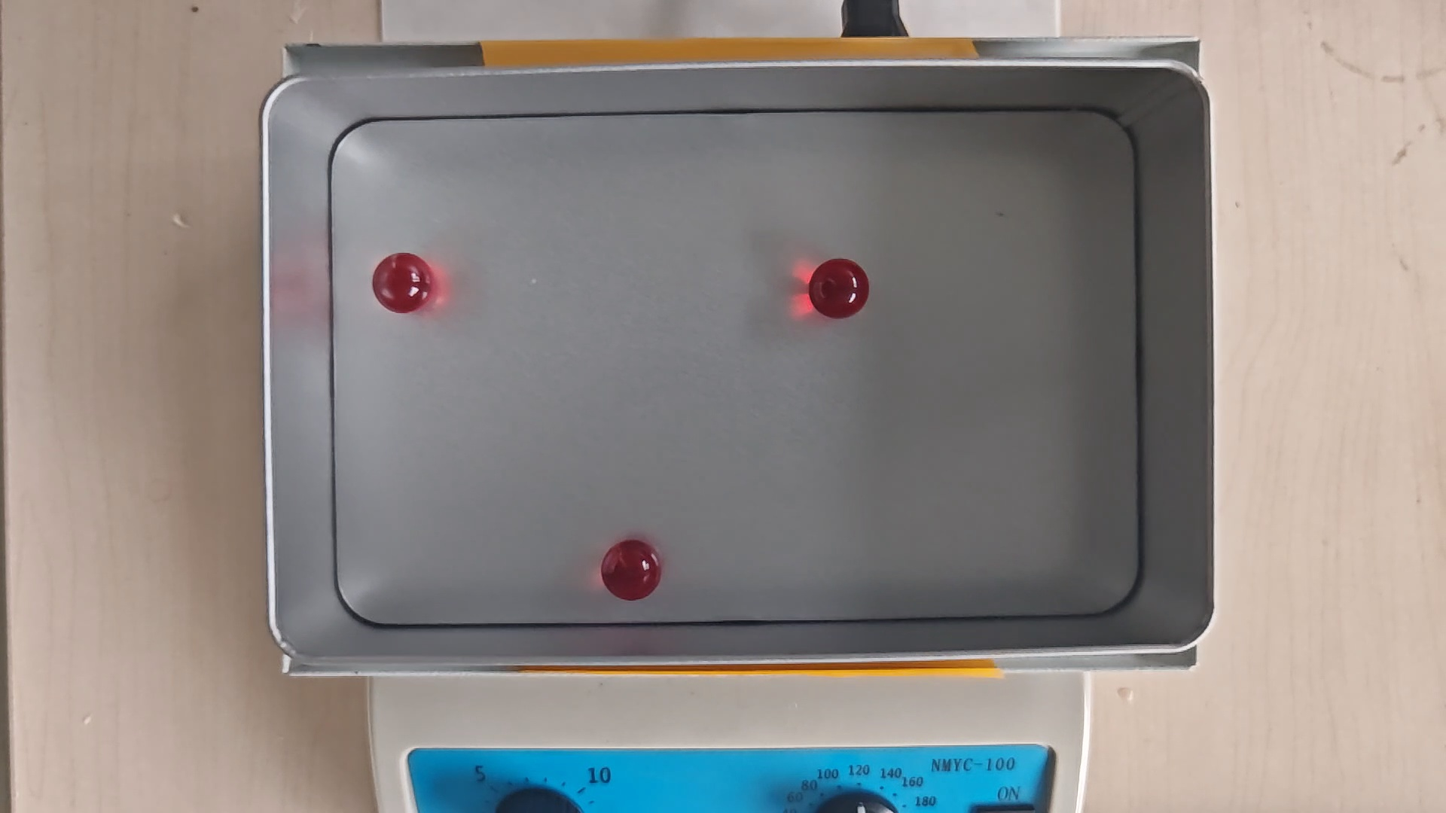ball: (369, 248, 435, 315), (600, 537, 664, 604), (809, 256, 870, 319)
container: (327, 116, 1139, 619)
